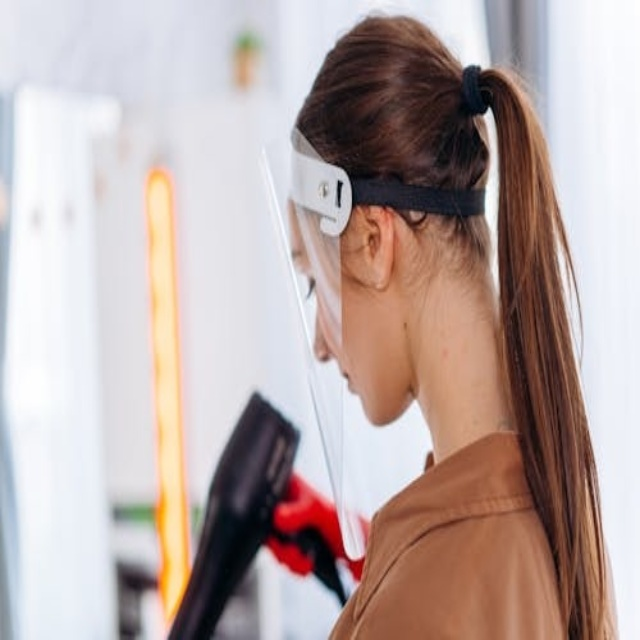Guantes: (268, 472, 369, 591)
Sin_gafas: (288, 234, 315, 311)
Sin_mascara: (320, 354, 381, 429)
